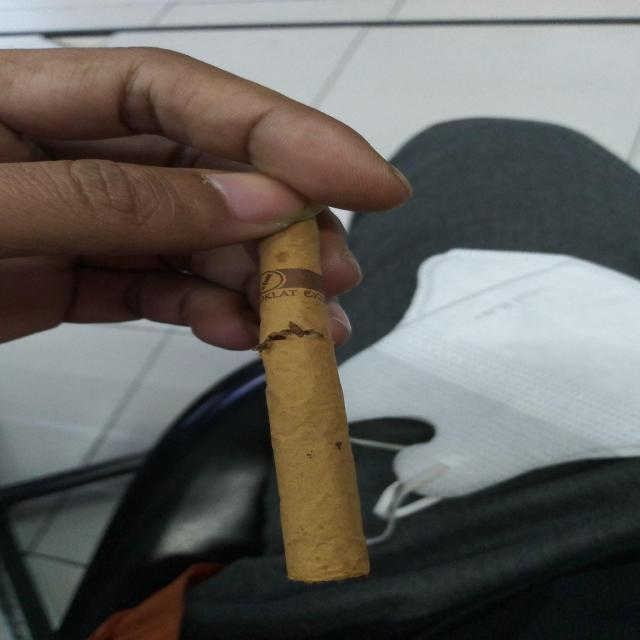rokok: (244, 207, 384, 591)
